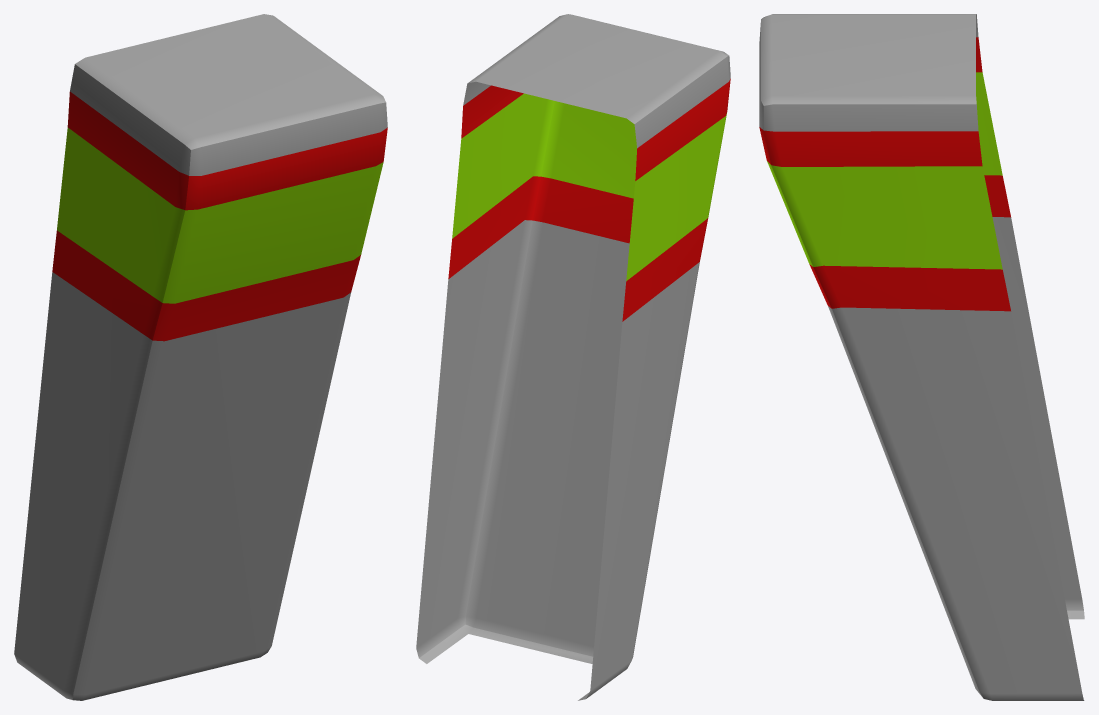
The model's file is renfort 3.1.fbx.
3 views of the same model, side by side, from view 1: azimuth 30°, elevation 25°; view 2: azimuth 150°, elevation 25°; view 3: azimuth 270°, elevation 25° (orthographic). The views are drawn at different scales.
Parts seen in each view (by area): view 1: renfort_3_1; view 2: renfort_3_1; view 3: renfort_3_1.
Part boxes in pixels (x1,y1,x2,y2): renfort_3_1: (14, 14, 387, 700); renfort_3_1: (416, 14, 730, 700); renfort_3_1: (759, 14, 1084, 700).
Size of the model in its own units: 100 by 300 by 146.
